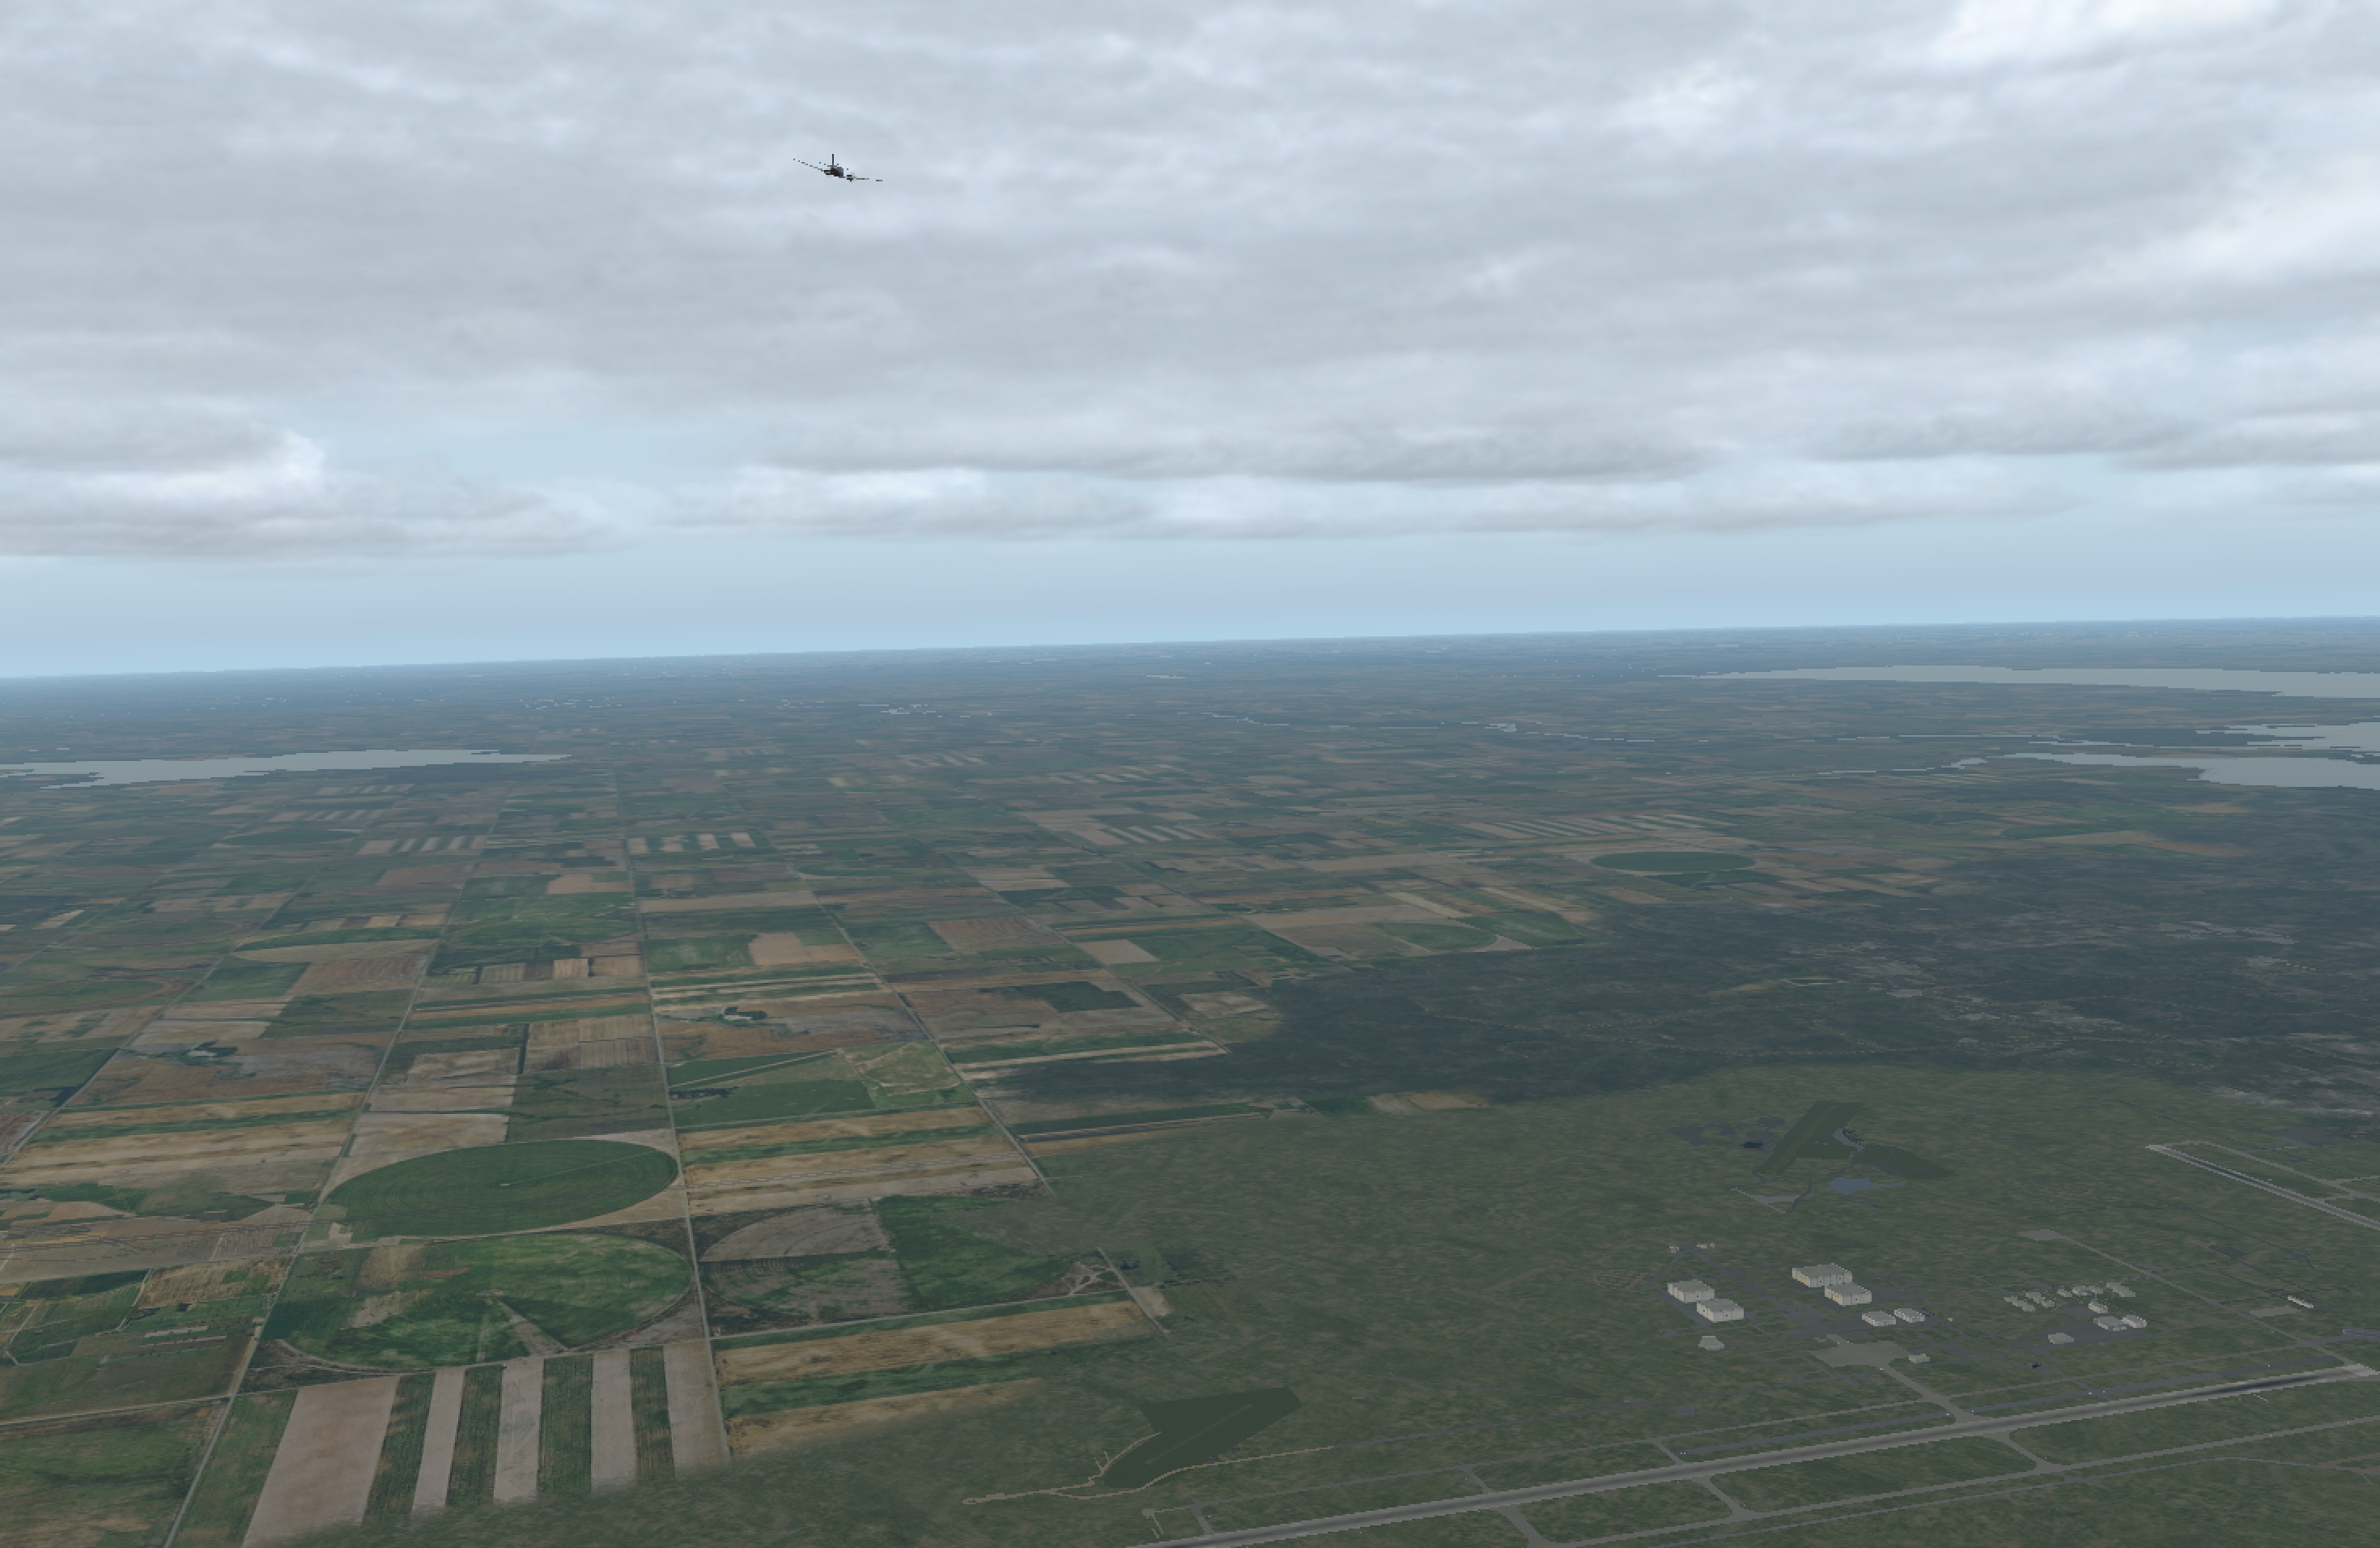aircraft: (794, 160, 881, 193)
